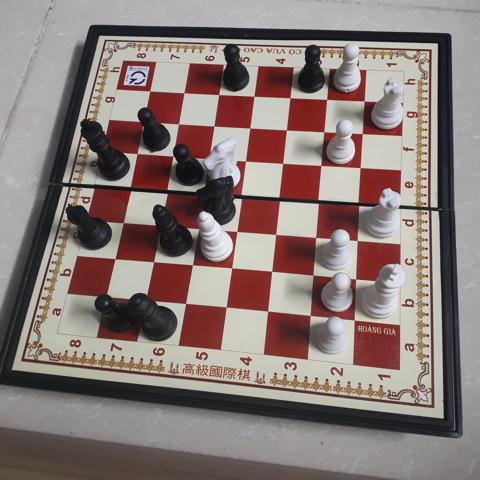xcorner: (138, 292, 153, 307), (307, 267, 322, 282), (159, 180, 174, 195), (202, 149, 217, 164), (315, 156, 330, 171), (212, 86, 227, 101), (99, 288, 113, 303), (179, 296, 193, 311), (220, 300, 234, 315), (262, 304, 276, 319), (304, 309, 319, 323), (107, 250, 122, 264), (185, 256, 199, 271), (115, 213, 130, 227), (310, 228, 324, 243), (351, 232, 366, 246), (313, 191, 327, 206), (353, 194, 367, 209), (239, 152, 254, 166), (354, 159, 369, 173), (207, 117, 222, 131), (280, 121, 295, 135), (318, 123, 332, 138), (356, 125, 370, 140), (143, 83, 158, 97), (357, 94, 372, 108), (348, 313, 362, 327), (146, 253, 160, 267), (225, 260, 239, 274), (266, 264, 280, 278), (350, 271, 364, 285), (153, 216, 167, 230), (191, 219, 205, 233), (230, 222, 244, 236), (270, 225, 284, 239), (123, 178, 137, 192), (197, 183, 211, 197), (235, 186, 249, 200), (274, 189, 288, 203), (130, 145, 144, 159), (166, 147, 180, 161), (277, 154, 291, 168), (137, 113, 151, 127), (172, 115, 186, 129), (244, 119, 258, 133), (178, 85, 192, 99), (248, 88, 262, 102), (284, 90, 298, 104), (320, 92, 334, 106)
